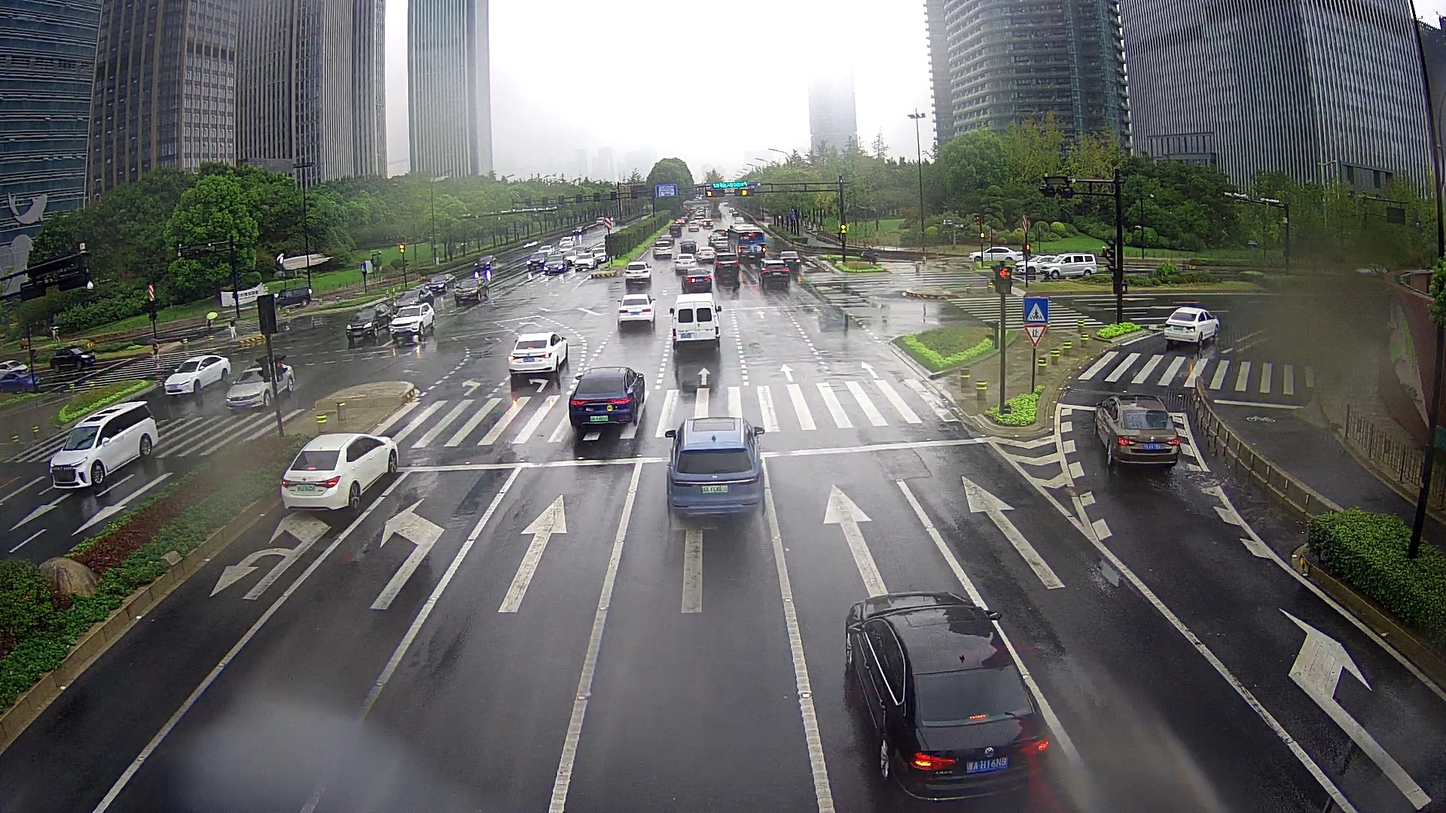vehicle: (837, 586, 1053, 805), (662, 412, 767, 520), (277, 428, 399, 516), (47, 399, 160, 492), (1091, 391, 1182, 471), (567, 364, 649, 432), (667, 291, 724, 353), (161, 352, 230, 399), (505, 330, 571, 379), (225, 363, 293, 408), (1161, 304, 1220, 347), (387, 303, 435, 342), (345, 301, 393, 340), (614, 290, 657, 332), (1042, 251, 1098, 277), (44, 346, 96, 371), (973, 241, 1024, 261), (755, 257, 791, 284), (453, 279, 488, 305), (676, 268, 713, 288), (713, 251, 740, 278), (622, 260, 653, 281)
